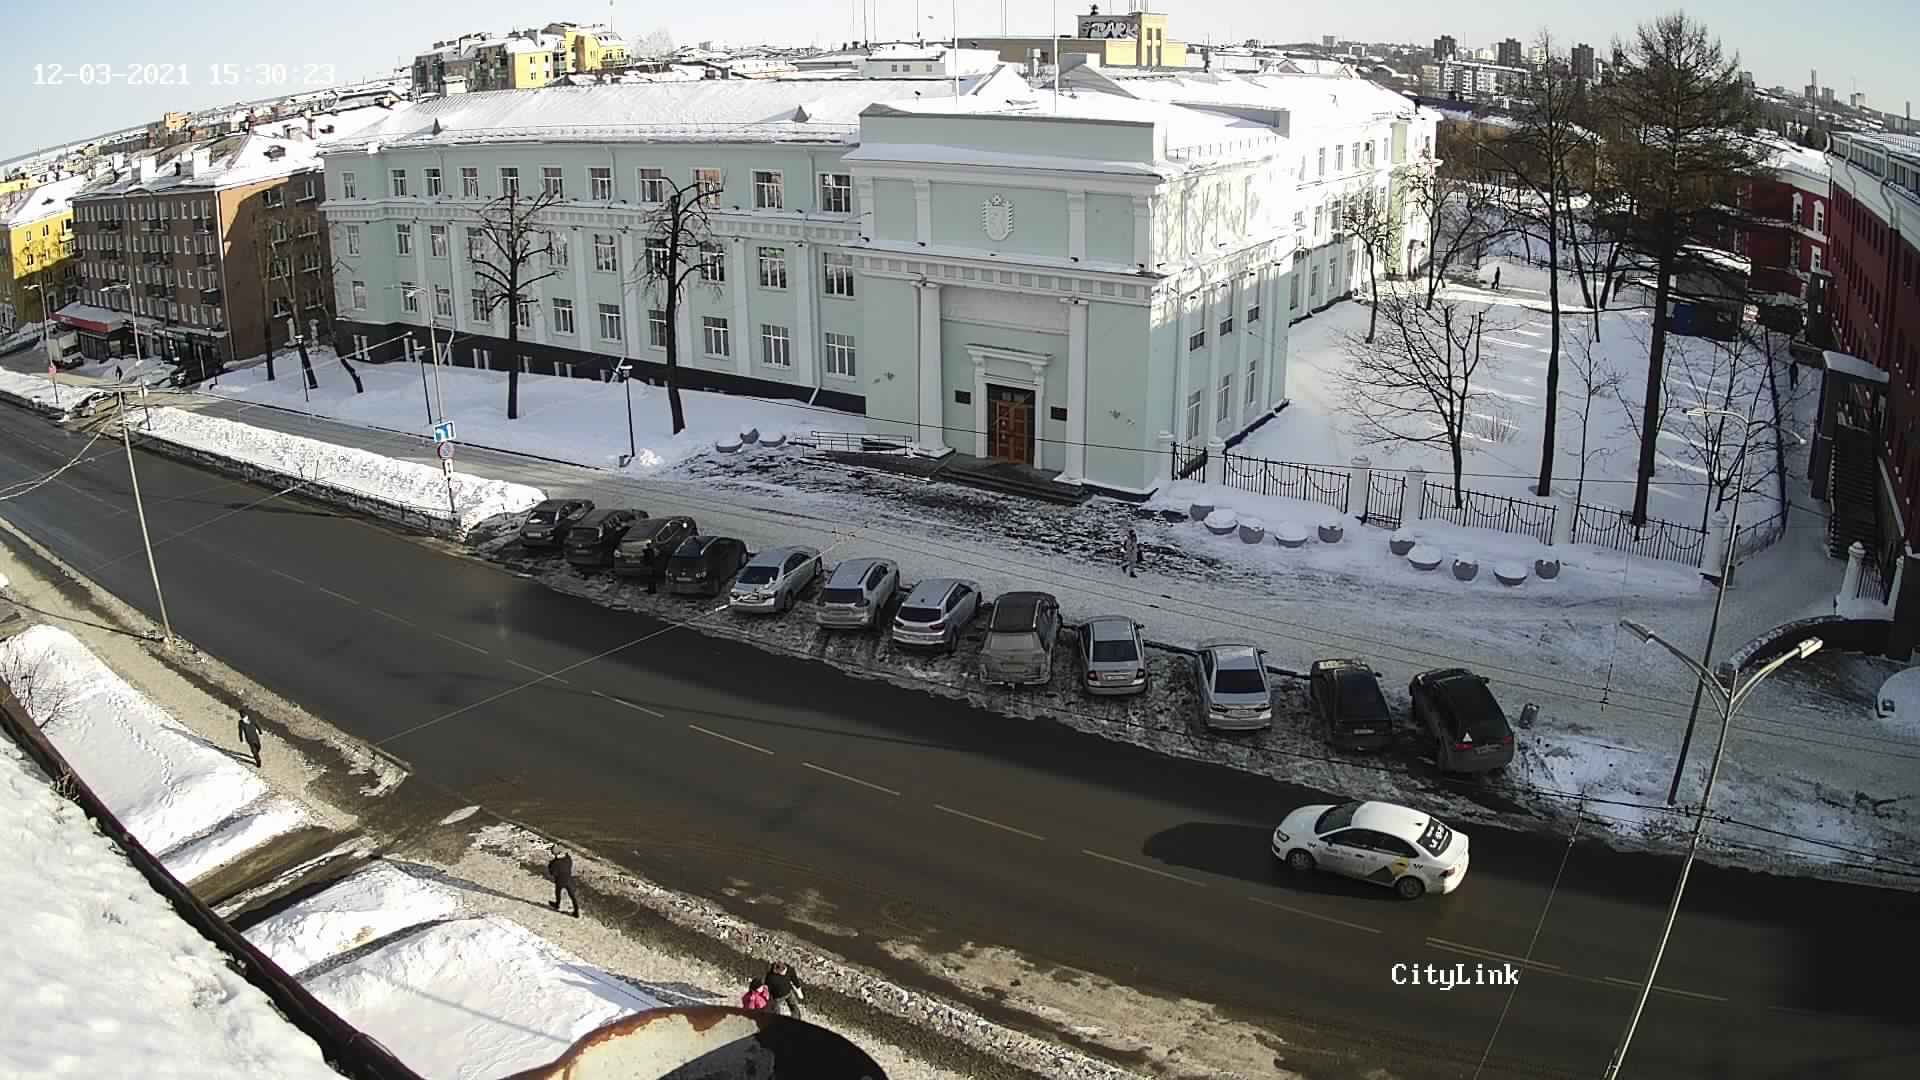car: (1403, 662, 1526, 782), (968, 578, 1065, 705), (1288, 647, 1391, 769), (1184, 630, 1278, 752), (1077, 607, 1168, 721), (894, 566, 982, 669), (733, 530, 819, 625), (814, 550, 905, 637), (669, 522, 746, 600), (564, 504, 646, 572), (618, 514, 692, 587), (513, 489, 593, 554)
